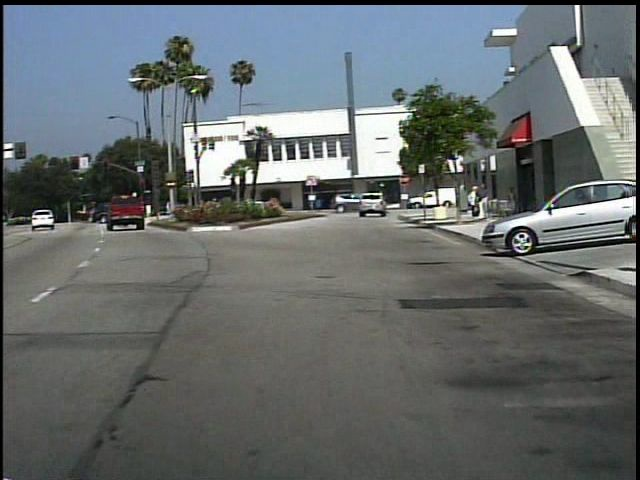person: (476, 182, 491, 223), (370, 191, 391, 220), (503, 184, 520, 218), (467, 184, 479, 217)
